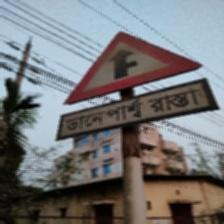Side-road-right: (57, 31, 216, 141)
